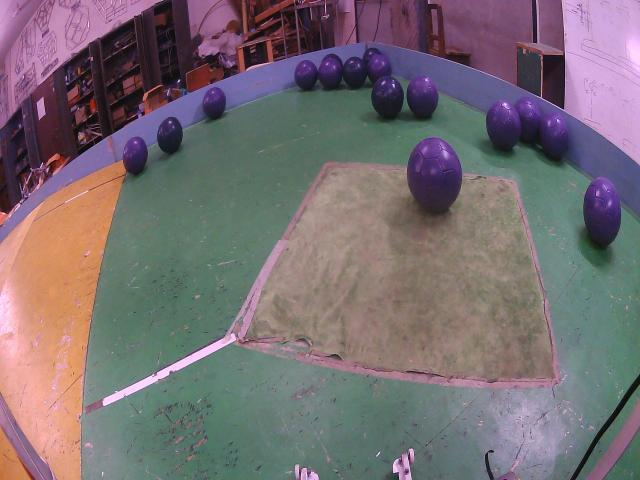jambhalya: (408, 137, 462, 212), (584, 177, 621, 247), (486, 100, 521, 150), (539, 112, 570, 160), (406, 75, 439, 118), (515, 97, 542, 143), (122, 137, 148, 175), (202, 87, 226, 118), (294, 60, 318, 90), (319, 57, 342, 88), (366, 55, 391, 83)
kaalyya: (371, 77, 404, 118), (158, 117, 182, 153), (342, 57, 368, 88), (362, 47, 381, 67), (324, 53, 342, 68)
